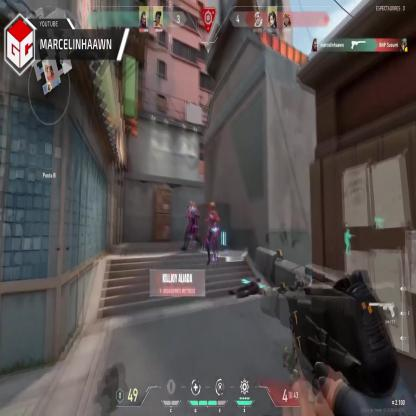enemy: (182, 201, 202, 253), (204, 203, 220, 268)
enemy_head: (209, 202, 215, 212), (191, 202, 196, 209)
